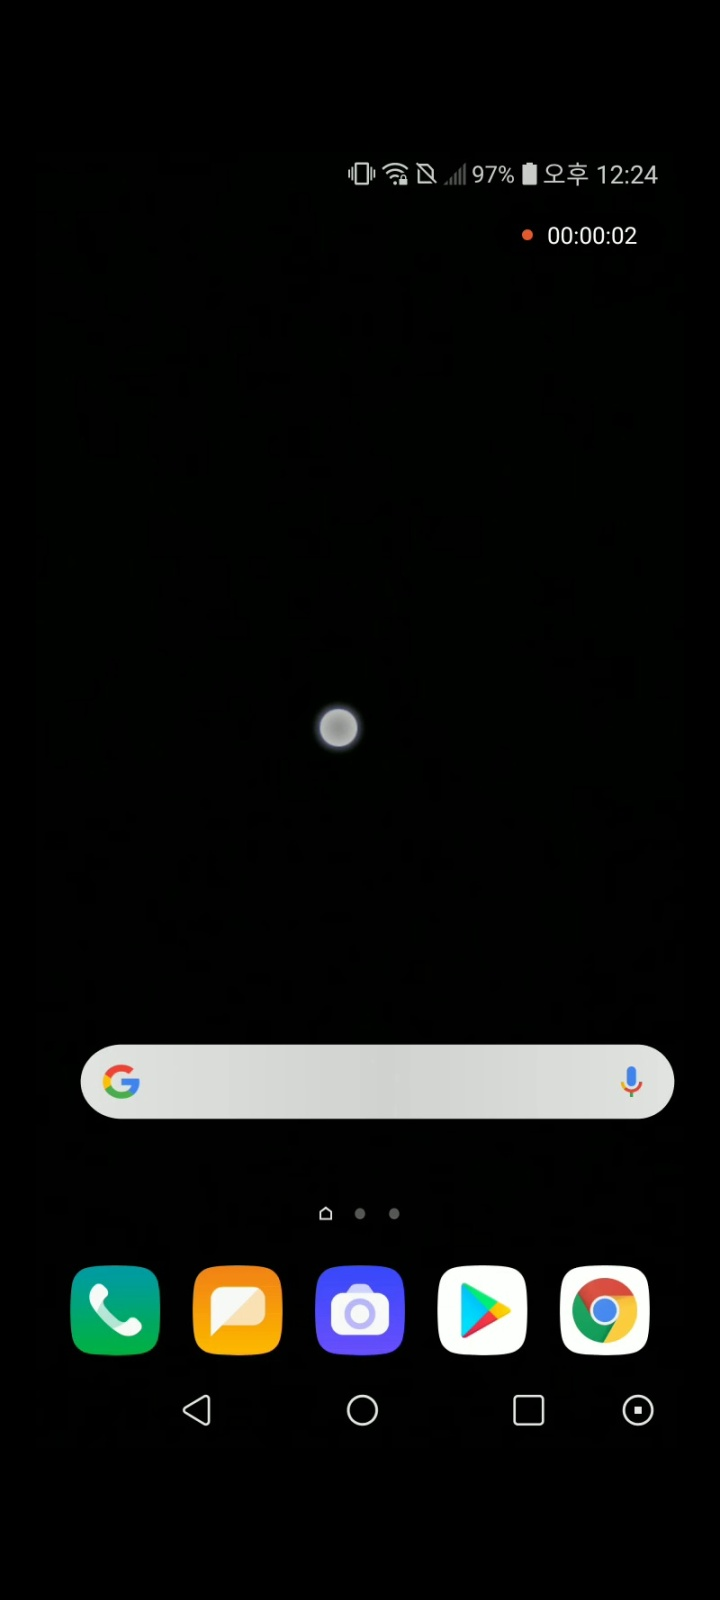Cursor: (316, 708, 361, 753)
